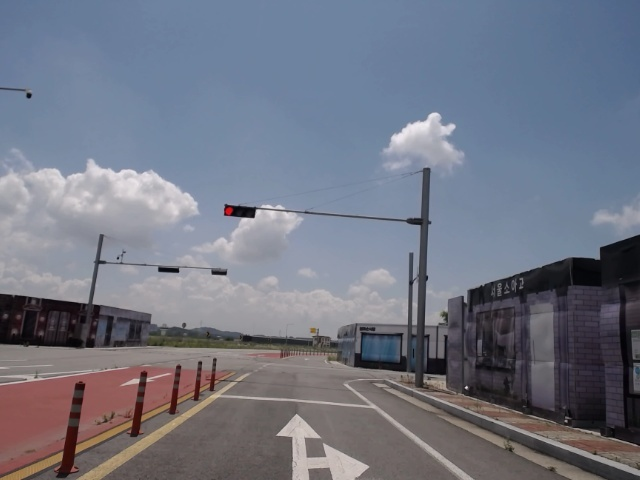red_3: (223, 204, 259, 219)
